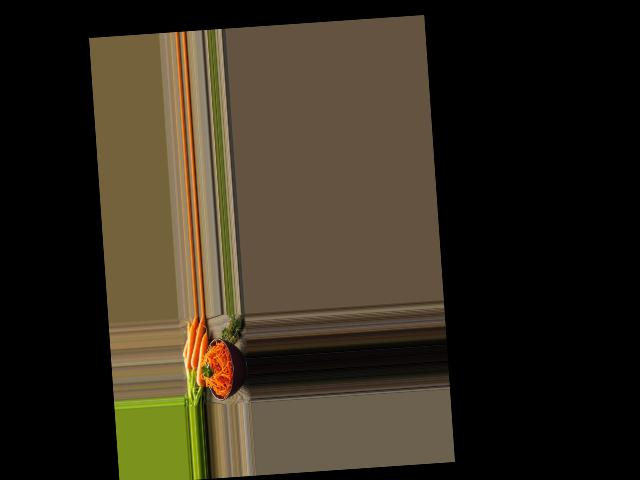carrot: (192, 329, 211, 390)
